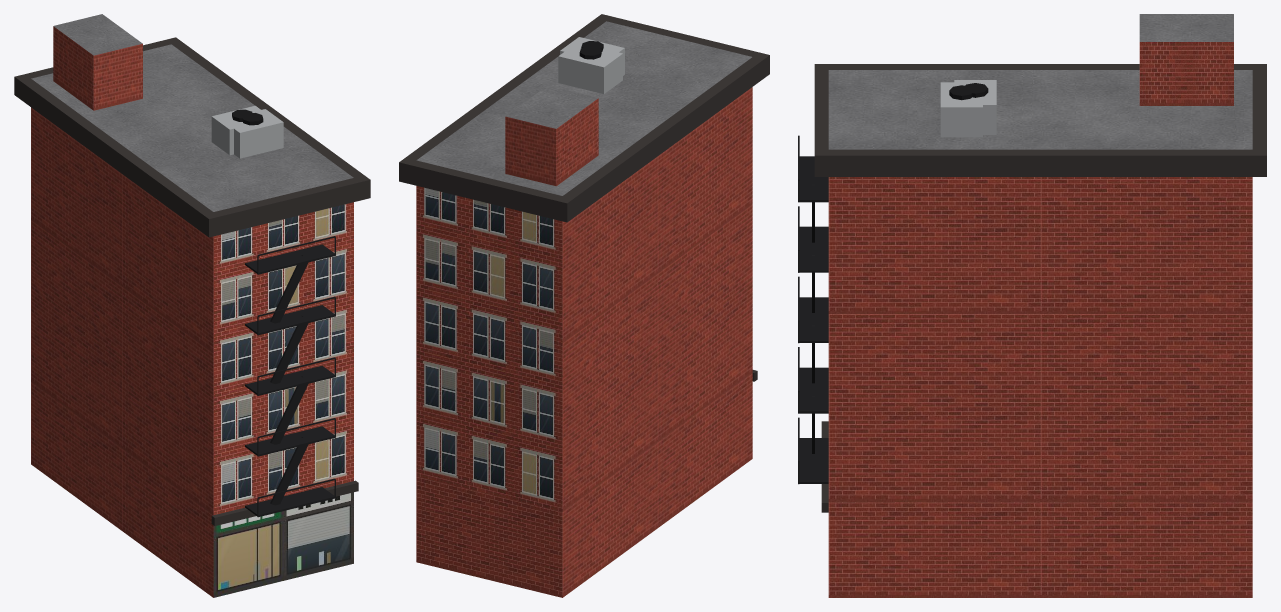
The model's file is 007_tenement_red.glb.
3 renders of one model, left to right at view 1: azimuth 30°, elevation 25°; view 2: azimuth 150°, elevation 25°; view 3: azimuth 270°, elevation 25°, orthographic. The views are drawn at different scales.
Visible parts, largest first — view 1: 007_tenement_red; view 2: 007_tenement_red; view 3: 007_tenement_red.
Part boxes in pixels (x1=…): 007_tenement_red: x1=14, y1=14, x2=370, y2=597; 007_tenement_red: x1=399, y1=14, x2=769, y2=597; 007_tenement_red: x1=798, y1=14, x2=1266, y2=597.
Bounding box in the file's own units: 9.2 × 24 × 19.9.
8 materials, 4 textured.
